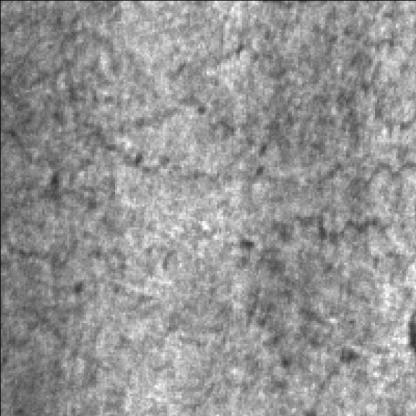crazing: (226, 204, 404, 393), (50, 106, 412, 189)
